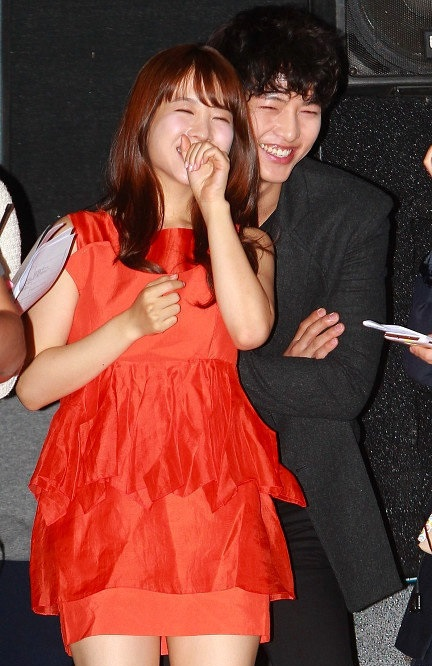face: (245, 49, 322, 184), (163, 88, 234, 184)
